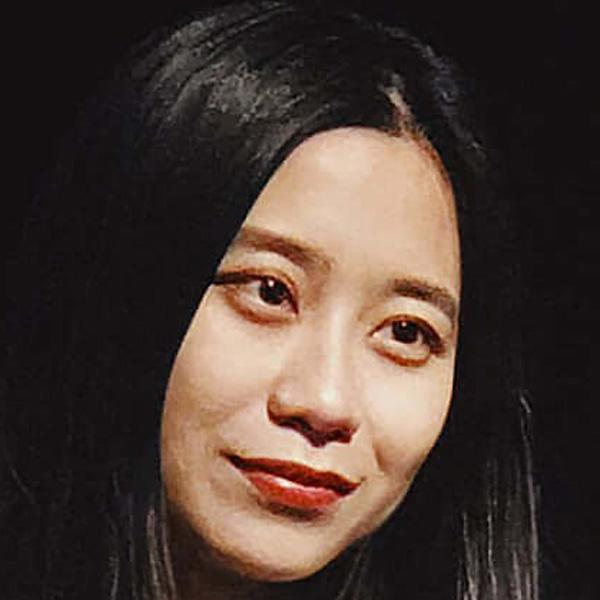Eyes: (212, 254, 308, 327), (362, 301, 445, 366)
